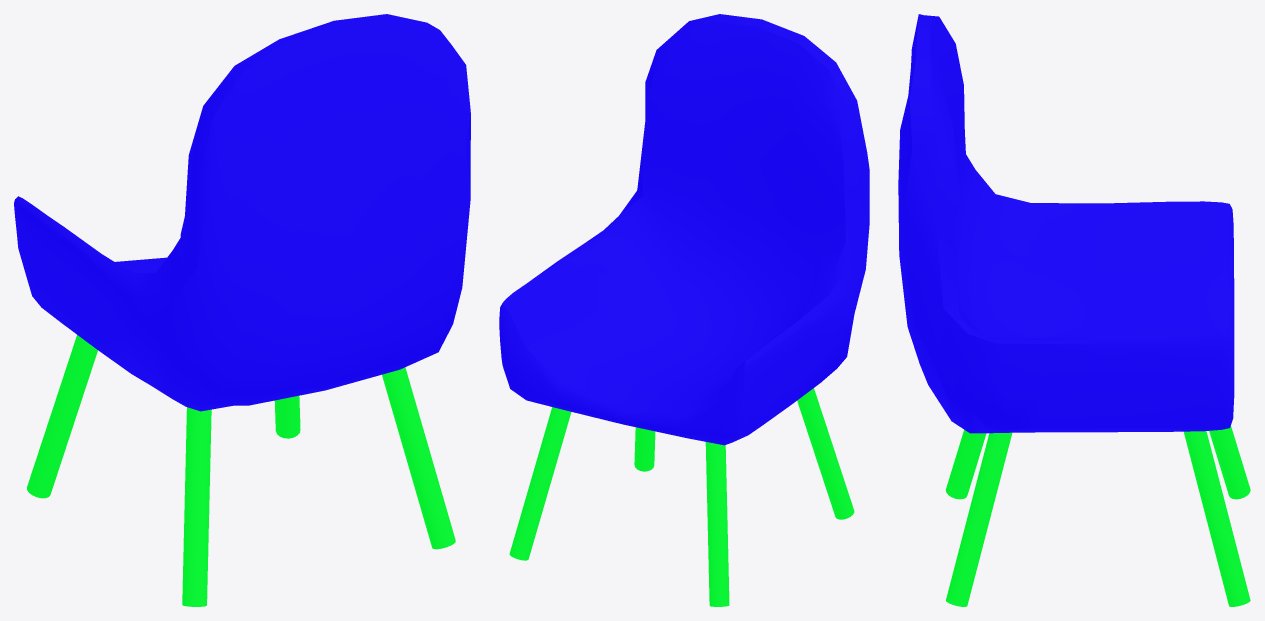
The model's file is Chair.fbx.
3 views of the same model, side by side, from view 1: azimuth 30°, elevation 25°; view 2: azimuth 150°, elevation 25°; view 3: azimuth 270°, elevation 25° (orthographic). The views are drawn at different scales.
Visible parts, largest first — view 1: Stuhl; view 2: Stuhl; view 3: Stuhl.
Boxes of the visible parts, left/top/right/bottom form: Stuhl: left=14, top=14, right=470, bottom=606; Stuhl: left=499, top=14, right=869, bottom=606; Stuhl: left=898, top=14, right=1250, bottom=606.
Bounding box in the file's own units: 57.95 × 102 × 62.48.
